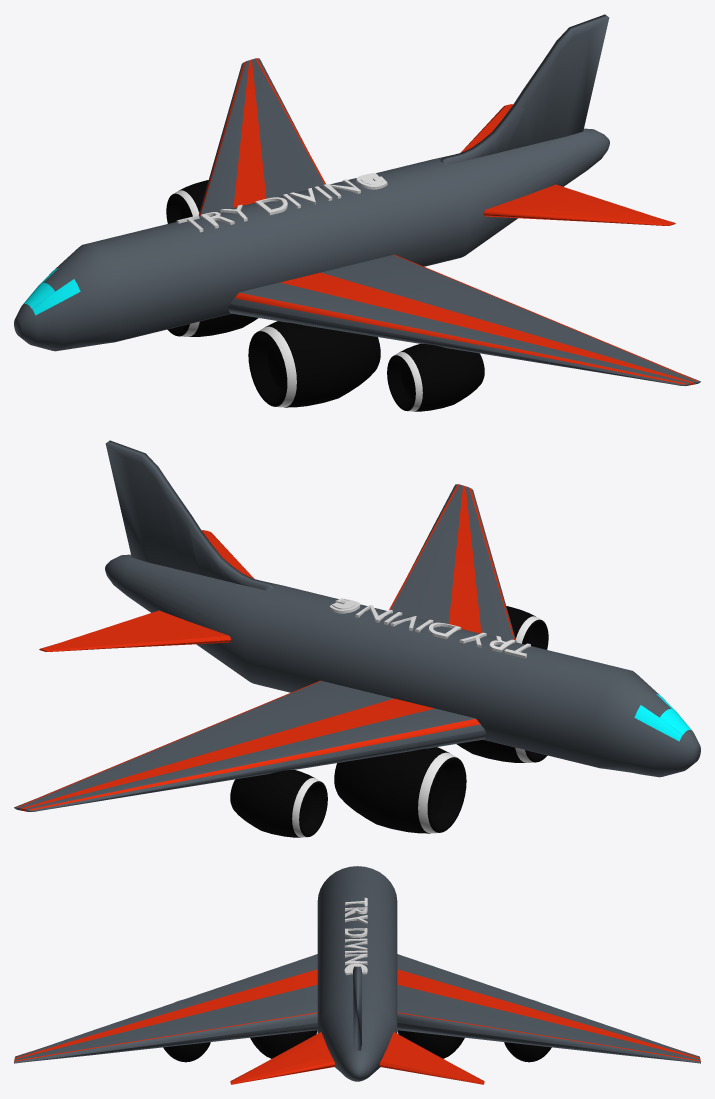
Rendered from aeroplane 5.fbx.
3 renders of one model, top to bottom at view 1: azimuth 30°, elevation 25°; view 2: azimuth 150°, elevation 25°; view 3: azimuth 270°, elevation 25°, orthographic. The views are drawn at different scales.
Parts seen in each view (by area): view 1: Cylinder, Cube.001, Cube.003, Cylinder.001, Cube, Cylinder.002, Cube.002, Text.001, Cylinder.004, Cylinder.003; view 2: Cylinder, Cube.003, Cube.001, Cylinder.004, Cube, Cylinder.003, Cube.004, Text.001, Cylinder.001, Cylinder.002; view 3: Cylinder, Cube.001, Cube.003, Cube.002, Cube.004, Text.001, Cylinder.001, Cylinder.004, Cube, Cylinder.002, Cylinder.003.
Part boxes in pixels (x1=…): Cylinder: x1=14, y1=128, x2=609, y2=351; Cube.001: x1=228, y1=254, x2=700, y2=385; Cube.003: x1=198, y1=58, x2=325, y2=215; Cylinder.001: x1=248, y1=321, x2=380, y2=407; Cube: x1=440, y1=14, x2=609, y2=164; Cylinder.002: x1=387, y1=344, x2=484, y2=411; Cube.002: x1=483, y1=184, x2=675, y2=225; Text.001: x1=176, y1=173, x2=387, y2=232; Cylinder.004: x1=167, y1=313, x2=258, y2=336; Cylinder.003: x1=166, y1=180, x2=208, y2=223; Cylinder: x1=105, y1=554, x2=700, y2=777; Cube.003: x1=14, y1=680, x2=486, y2=811; Cube.001: x1=389, y1=484, x2=516, y2=642; Cylinder.004: x1=334, y1=747, x2=466, y2=833; Cube: x1=105, y1=440, x2=274, y2=590; Cylinder.003: x1=230, y1=770, x2=327, y2=837; Cube.004: x1=39, y1=610, x2=231, y2=651; Text.001: x1=329, y1=598, x2=530, y2=658; Cylinder.001: x1=456, y1=739, x2=547, y2=762; Cylinder.002: x1=506, y1=606, x2=548, y2=649; Cylinder: x1=317, y1=866, x2=397, y2=1081; Cube.001: x1=14, y1=954, x2=317, y2=1063; Cube.003: x1=397, y1=954, x2=700, y2=1063; Cube.002: x1=230, y1=1032, x2=335, y2=1084; Cube.004: x1=379, y1=1032, x2=484, y2=1084; Text.001: x1=344, y1=897, x2=367, y2=975; Cylinder.001: x1=250, y1=1030, x2=317, y2=1058; Cylinder.004: x1=397, y1=1030, x2=464, y2=1058; Cube: x1=353, y1=966, x2=361, y2=1050; Cylinder.002: x1=163, y1=999, x2=210, y2=1062; Cylinder.003: x1=504, y1=999, x2=551, y2=1062.
Bounding box in the file's own units: 2840 × 1220 × 3684.
